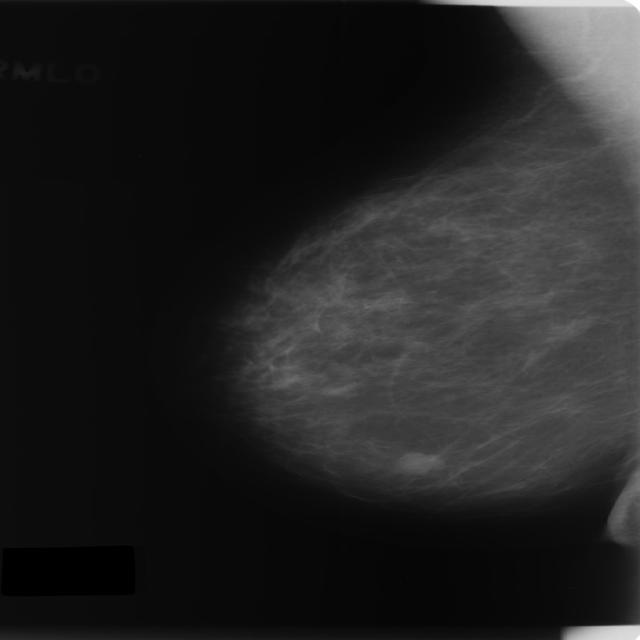tumour: (392, 450, 442, 476)
